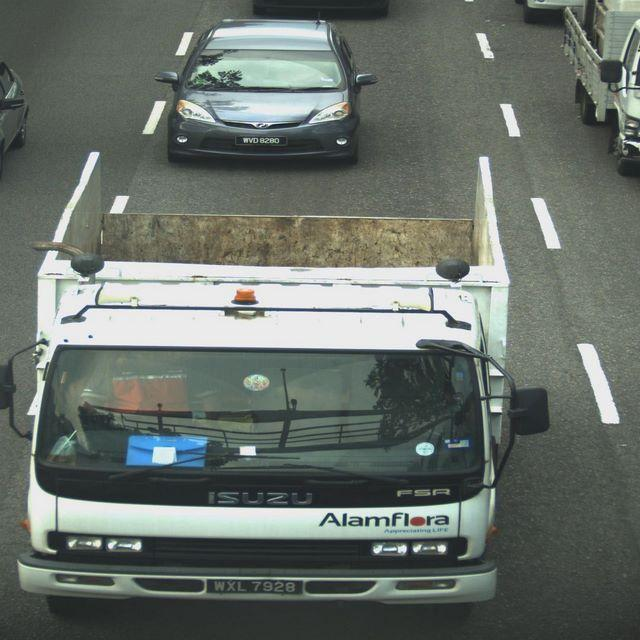License_Plate: (200, 575, 309, 601), (233, 134, 290, 150)
car: (142, 12, 380, 174)
lorry: (1, 140, 527, 630)
